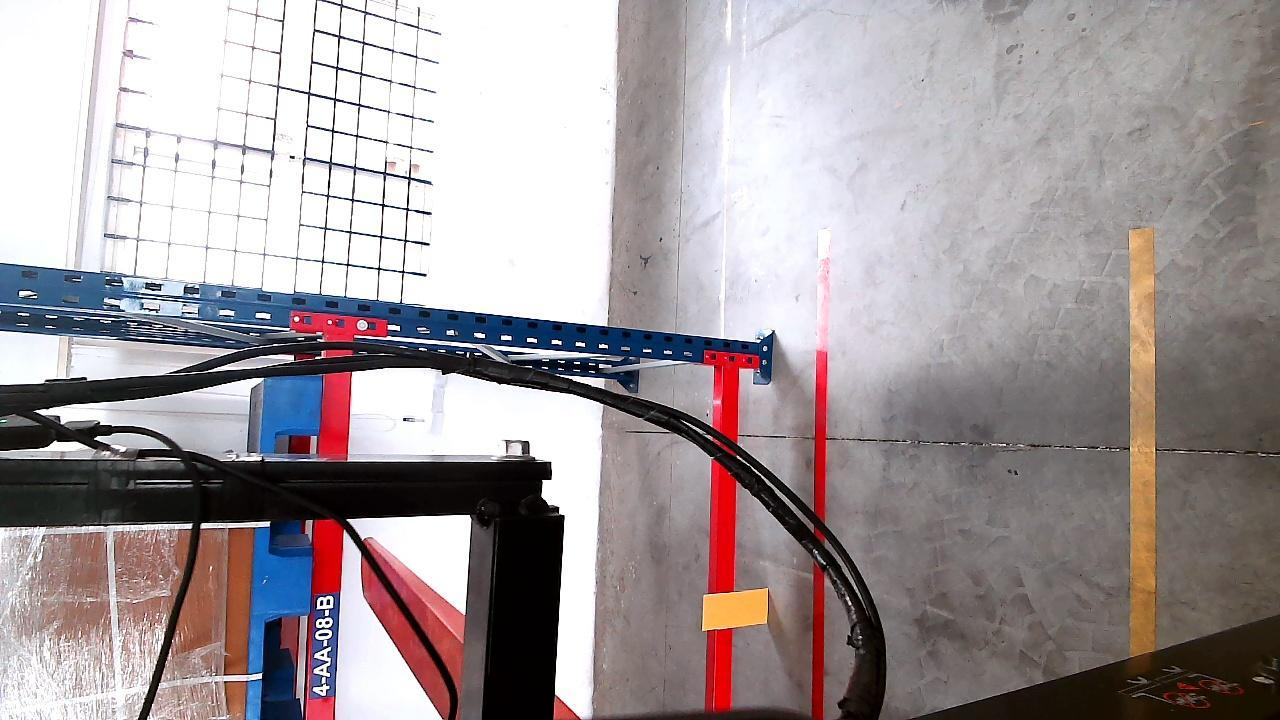red_line: (809, 268, 834, 720)
yellow_line: (1130, 221, 1159, 662)
